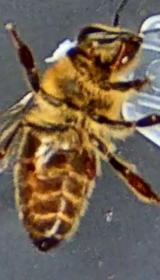varroa_mite: (77, 146, 103, 190)
